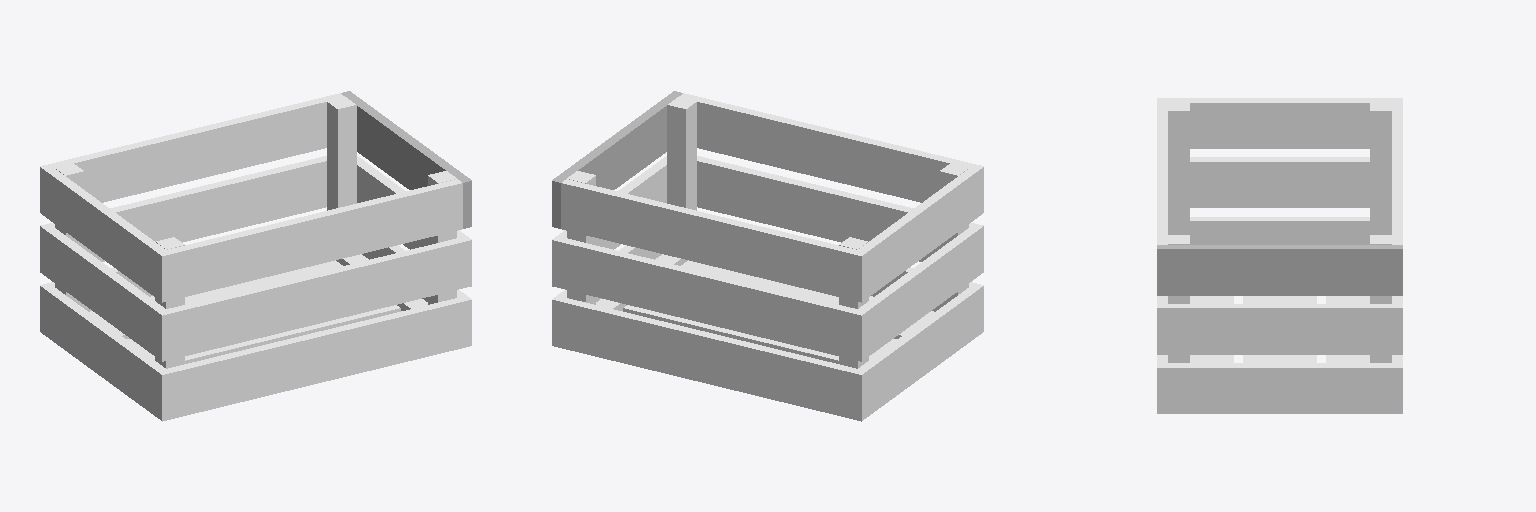
The picture shows the model from 3 angles: view 1: azimuth 30°, elevation 25°; view 2: azimuth 150°, elevation 25°; view 3: azimuth 270°, elevation 25°; orthographic projection.
Parts seen in each view (by area): view 1: Куб; view 2: Куб; view 3: Куб.
Part boxes in pixels (left/top/right/bottom): Куб: left=40, top=91, right=471, bottom=421; Куб: left=552, top=91, right=983, bottom=421; Куб: left=1157, top=98, right=1402, bottom=413.
Bounding box in the file's own units: 49 × 25 × 33.6.